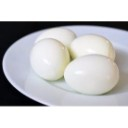begg: (67, 57, 122, 93), (32, 38, 65, 79), (70, 32, 117, 56)
